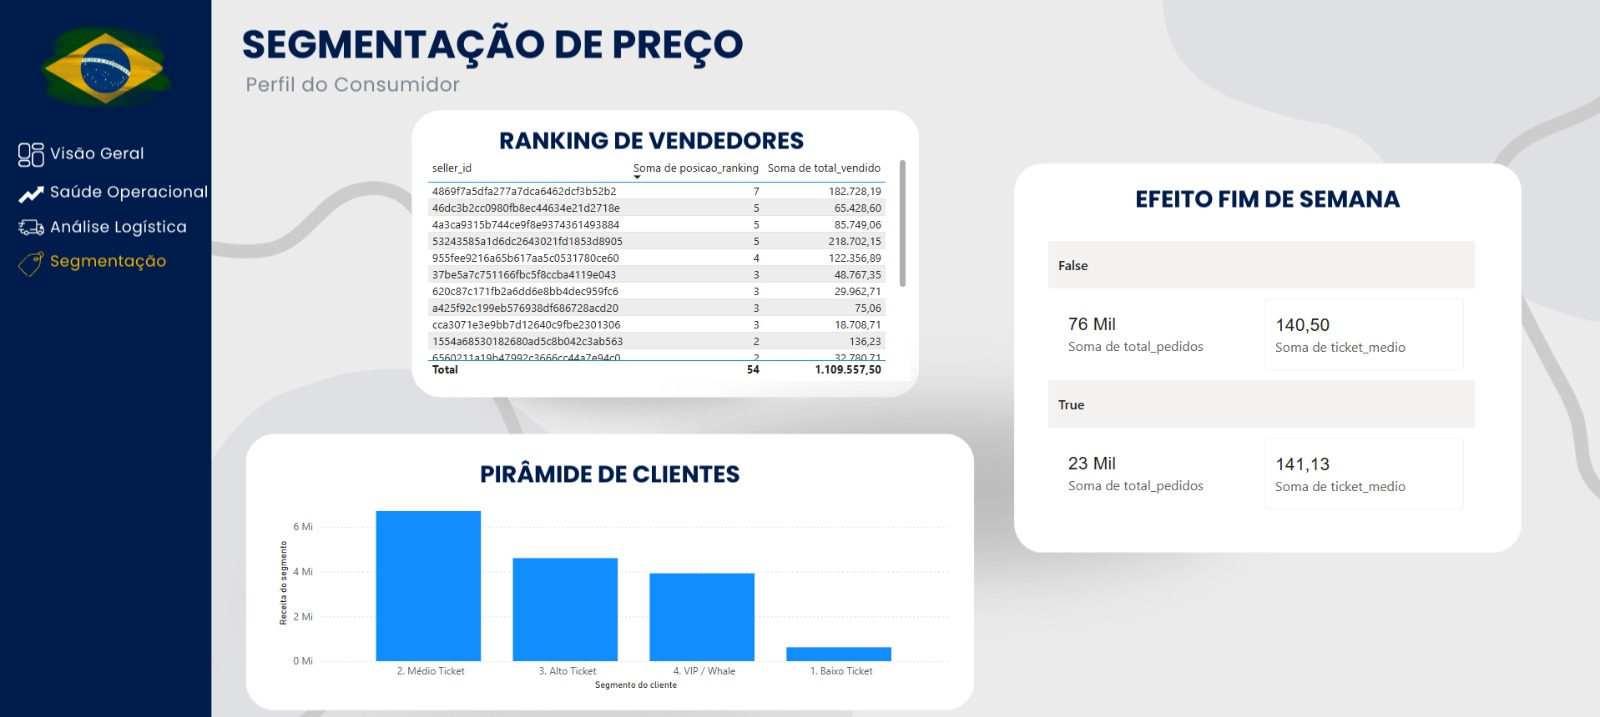

The dashboard page shown, as its layout file describes it:
{"tool":"powerbi","page":{"name":"Segmentação","canvas":[2000,866],"ordinal":3},"visuals":[{"type":"columnChart","fields":{"Y":["Sum(Segmentação de Clientes.receita_segmento)"],"Category":["Segmentação de Clientes.segmento_cliente"]},"box":[329.4,592.6,814.7,241.2],"z":0},{"type":"tableEx","fields":{"Values":["Top 3 Vendedores por Trimestre.seller_id","Sum(Top 3 Vendedores por Trimestre.posicao_ranking)","Sum(Top 3 Vendedores por Trimestre.total_vendido)"]},"box":[507.4,188.2,583.8,270.6],"z":1000},{"type":"cardVisual","fields":{"Rows":["Fim de Semana.is_weekend"],"Data":["Sum(Fim de Semana.total_pedidos)","Sum(Fim de Semana.ticket_medio)"]},"box":[1251.5,266.2,520.6,385.3],"z":2000},{"type":"actionButton","box":[0,167.6,252.9,41.2],"z":3000},{"type":"actionButton","box":[0,208.8,252.9,39.7],"z":4000},{"type":"actionButton","box":[0,248.5,252.9,39.7],"z":5000}]}

Visuals, with their boxes on the page's 2000x866 design canvas (x1, y1, x2, y2). These are canvas units, not pixel positions in the 1600x717 screenshot, which may show the page scaled, cropped or inside an application window:
columnChart - Sum(Segmentação de Clientes.receita_segmento) x Segmentação de Clientes.segmento_cliente: detection(329, 593, 1144, 834)
tableEx - Top 3 Vendedores por Trimestre.seller_id x Sum(Top 3 Vendedores por Trimestre.posicao_ranking): detection(507, 188, 1091, 459)
cardVisual - Fim de Semana.is_weekend x Sum(Fim de Semana.total_pedidos): detection(1252, 266, 1772, 652)
actionButton: detection(0, 168, 253, 209)
actionButton: detection(0, 209, 253, 248)
actionButton: detection(0, 248, 253, 288)
